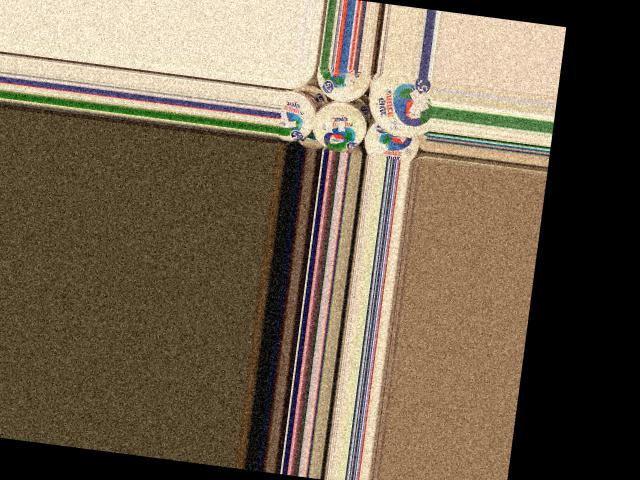cotage: (358, 120, 421, 161)
